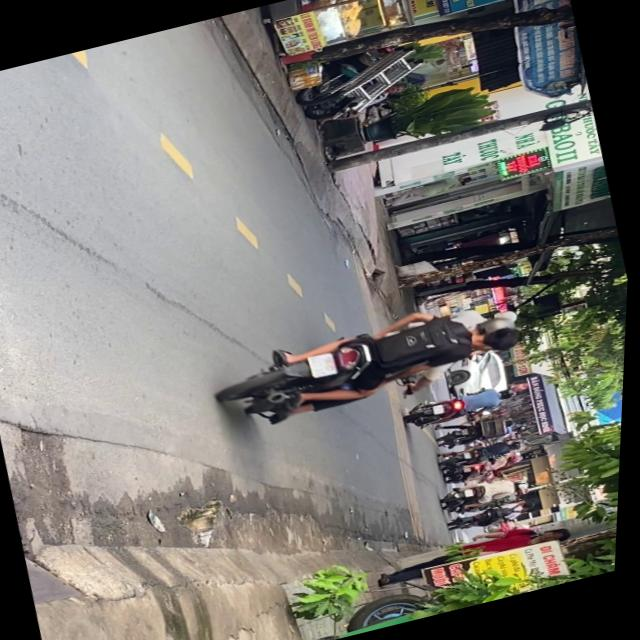helmet: (472, 308, 518, 337)
licenseplate: (215, 284, 538, 436)
motorcyclist: (474, 320, 527, 356)
nohelmet: (309, 349, 340, 376)
